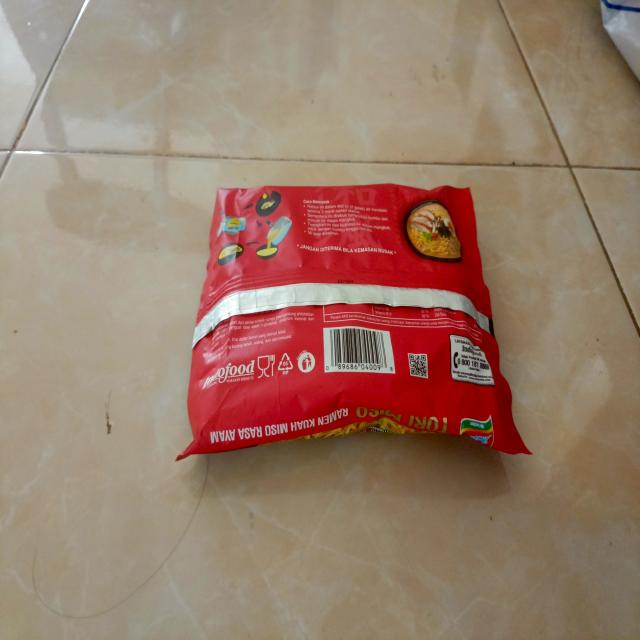indomie-tori-miso: (172, 183, 532, 465)
